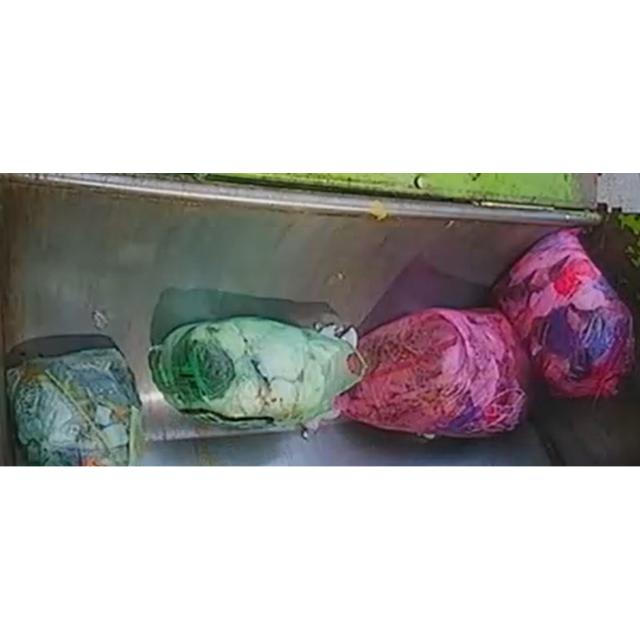general_trashbag: (149, 317, 364, 427), (6, 349, 141, 465)
other_trashbag: (336, 308, 526, 437), (495, 229, 632, 398)
